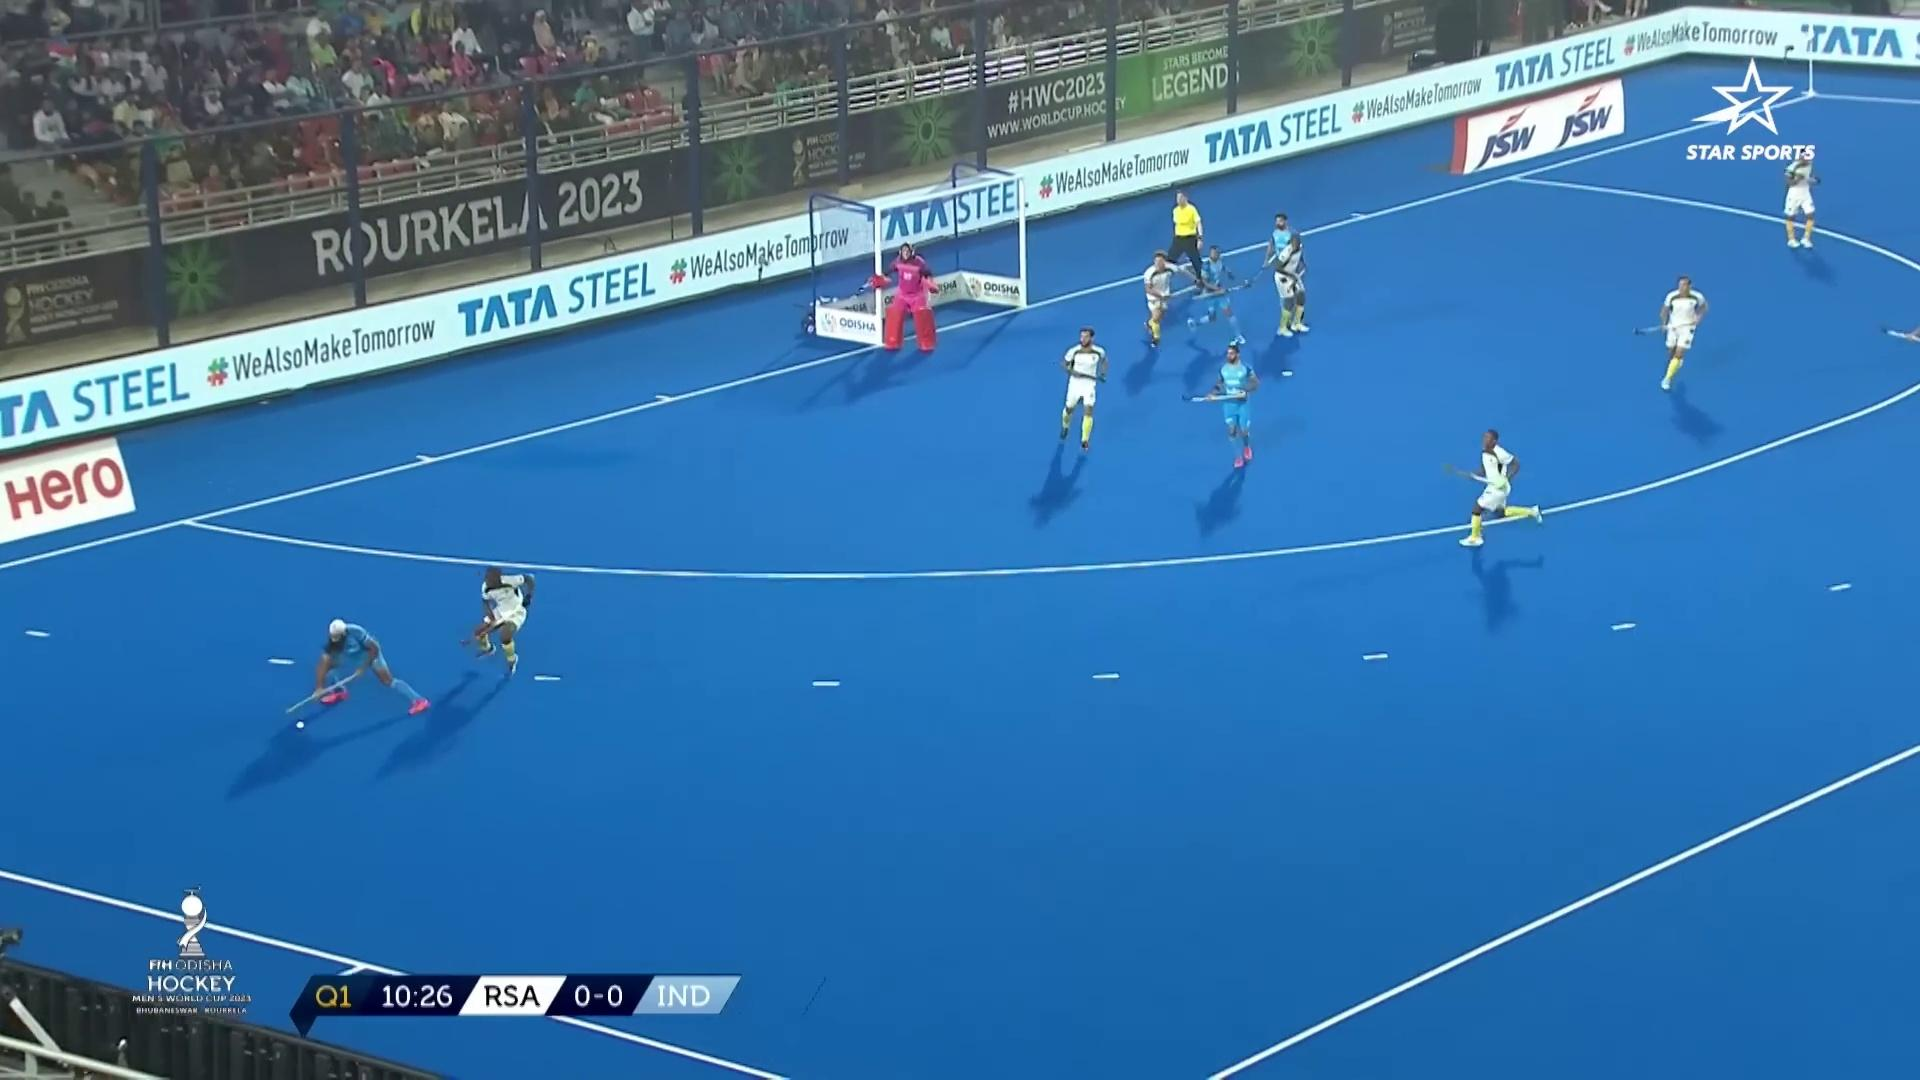ball: (293, 707, 317, 740)
